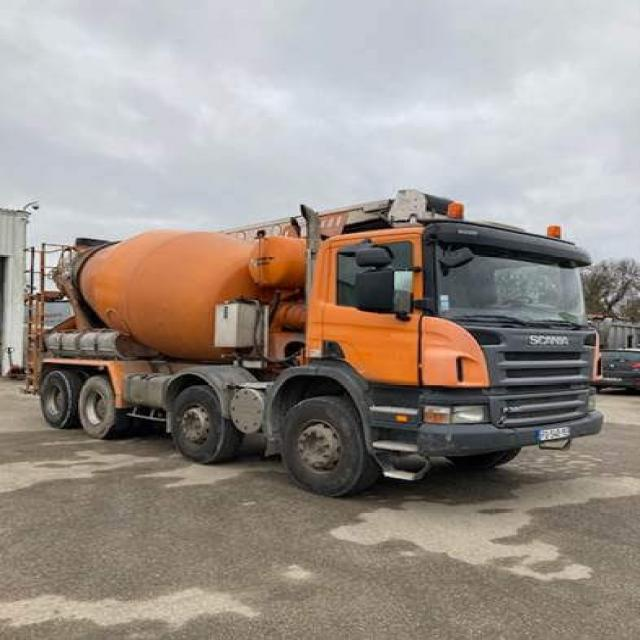Mixer Truck: (17, 192, 612, 502)
